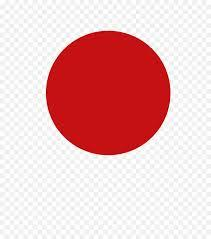red_circle: (37, 23, 180, 164)
